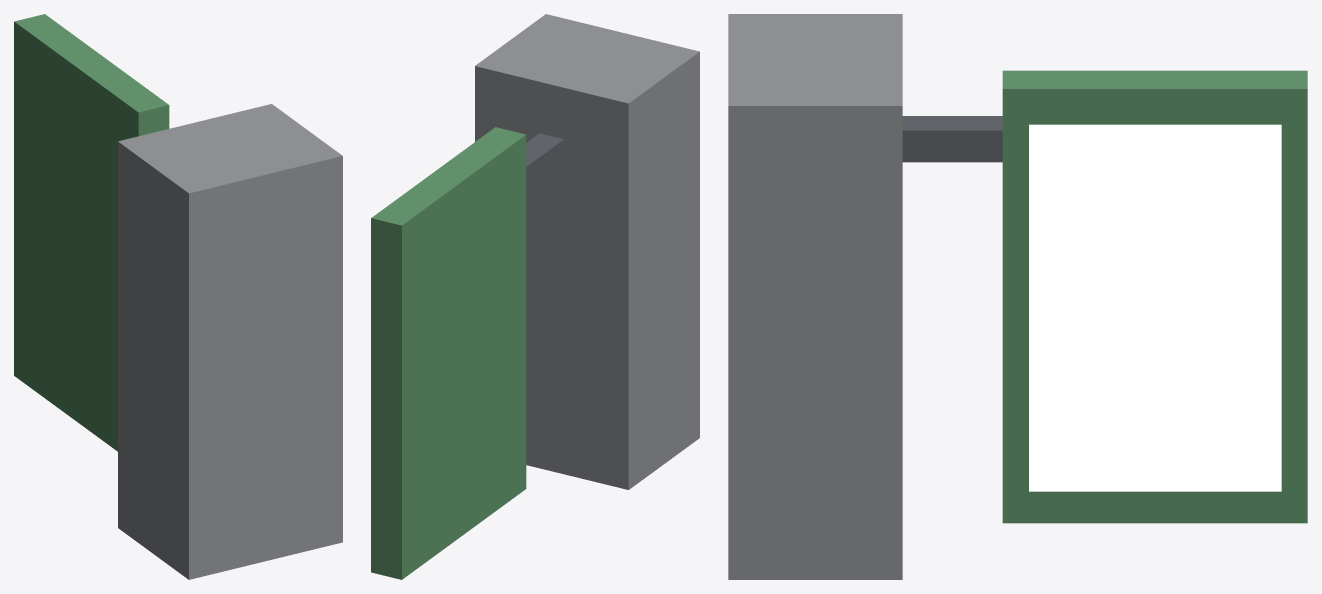
Rendered from prop_kanban_sode_green.glb.
3 renders of one model, left to right at view 1: azimuth 30°, elevation 25°; view 2: azimuth 150°, elevation 25°; view 3: azimuth 270°, elevation 25°, orthographic. The views are drawn at different scales.
Parts seen in each view (by area): view 1: kanban_sode_green; view 2: kanban_sode_green; view 3: kanban_sode_green.
Boxes of the visible parts, x1,y1,x2,y2 form: kanban_sode_green: (14, 14, 342, 579); kanban_sode_green: (371, 14, 699, 579); kanban_sode_green: (728, 14, 1307, 579).
Size of the model in its own units: 0.5 by 1.2 by 1.33.
